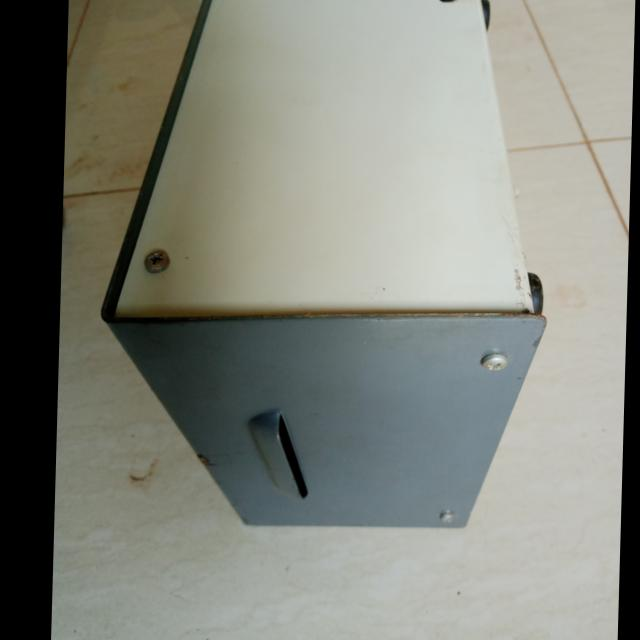Smoothing Unit: (68, 0, 561, 571)
